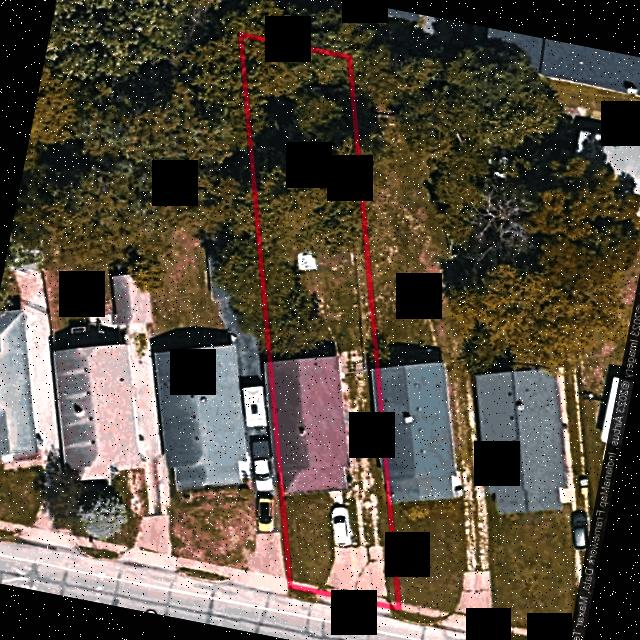Driveway: (325, 490, 388, 601)
Extra Driveway: (317, 595, 390, 614)
Extra Lawn: (288, 589, 319, 601), (390, 609, 403, 619)
House: (274, 357, 348, 494)
Other: (339, 349, 365, 373), (299, 252, 317, 269)
